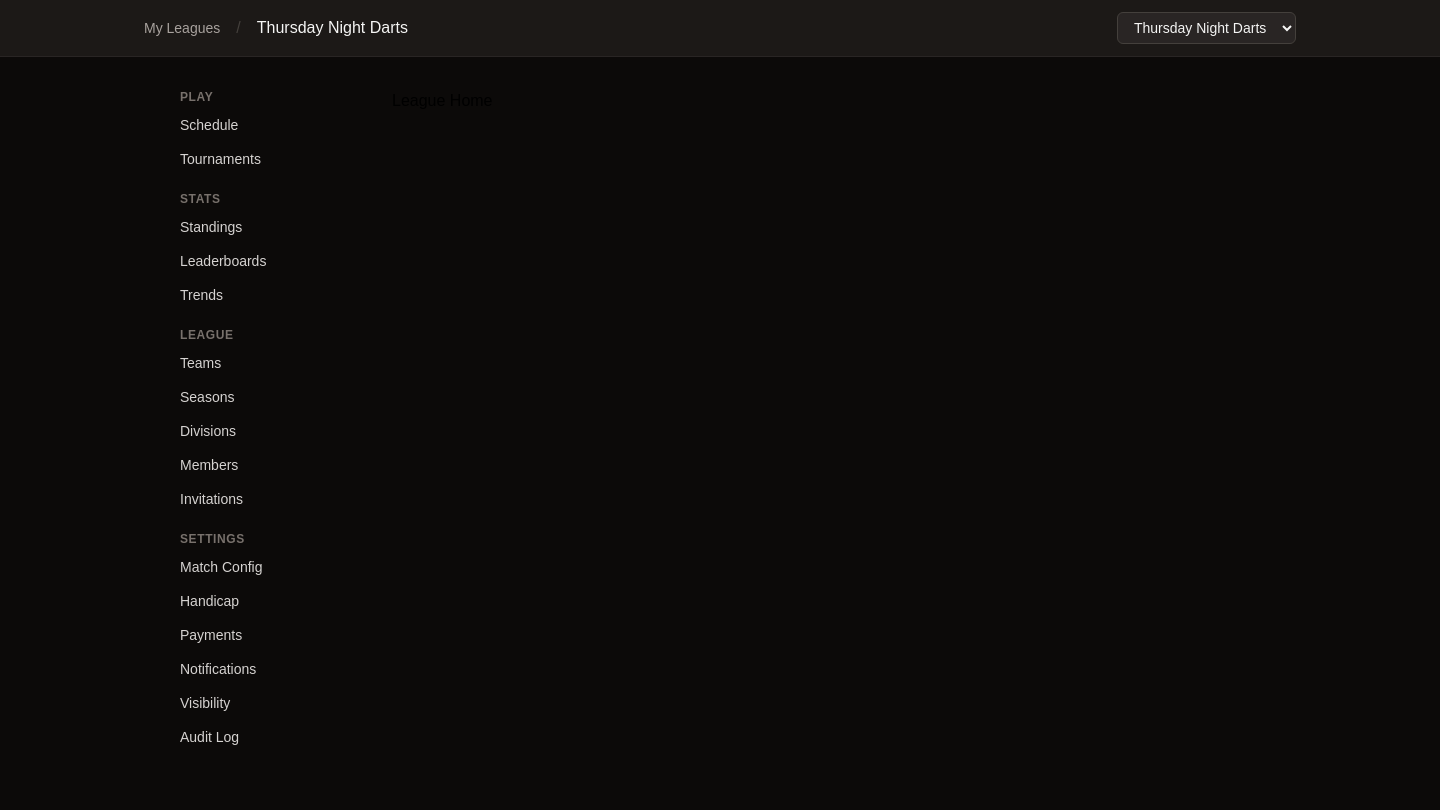
Test: LeagueLayout › navigates to different league when switcher value changes
Select "Sunday Funday" in the dropdown named "switch league" at coordinates (1206, 28), box [1117, 12, 1296, 44]
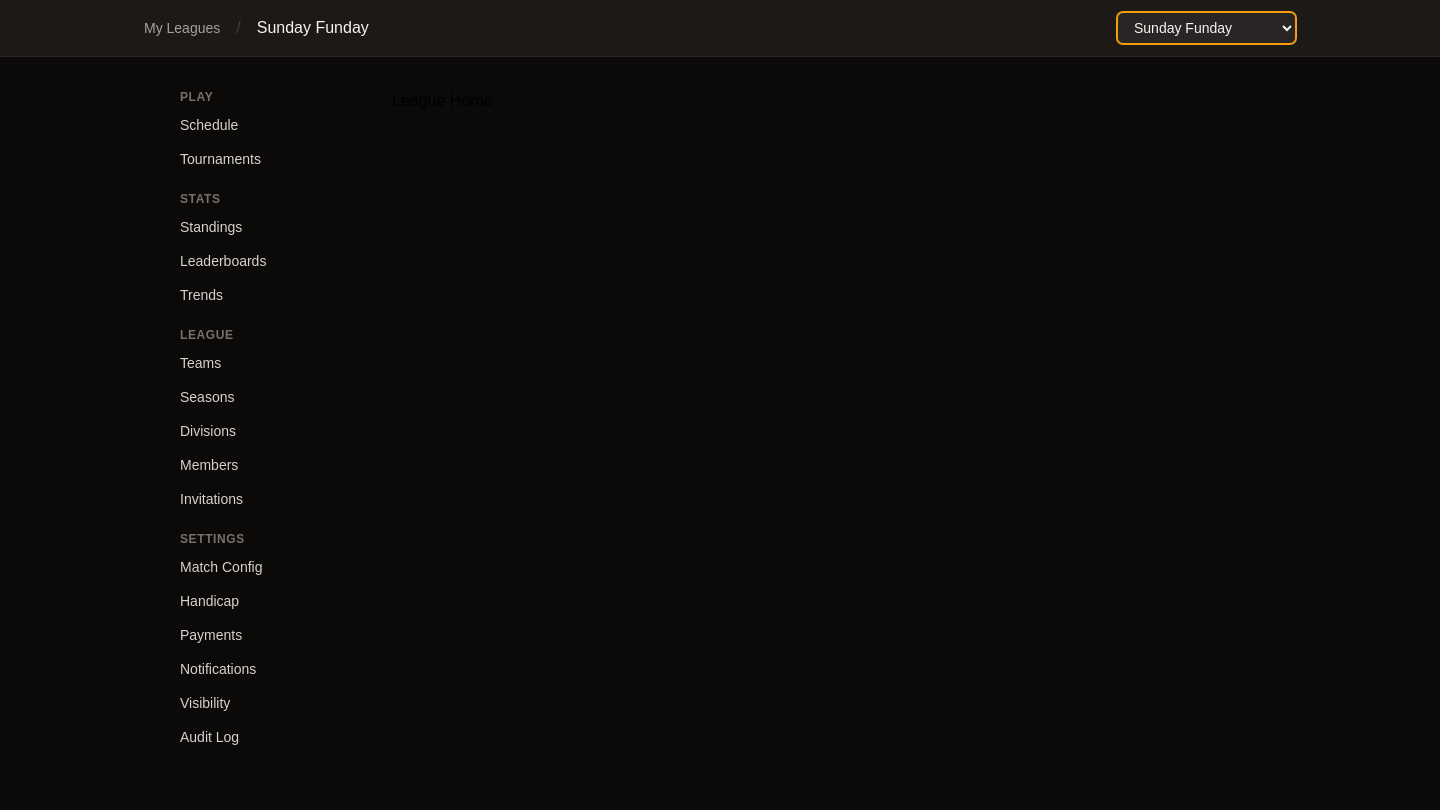
Now the header shows "Sunday Funday", box [257, 19, 369, 36]
